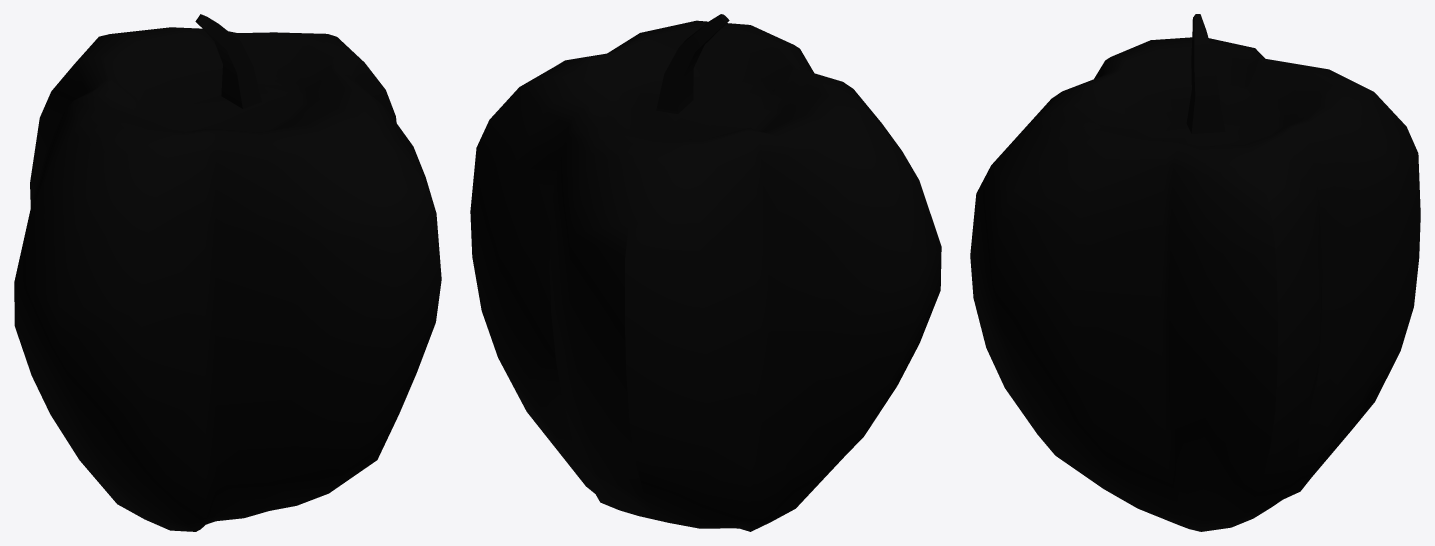
File: Pepper_1_Green.fbx
3 renders of one model, left to right at view 1: azimuth 30°, elevation 25°; view 2: azimuth 150°, elevation 25°; view 3: azimuth 270°, elevation 25°, orthographic. The views are drawn at different scales.
Parts seen in each view (by area): view 1: Pepper_1_Green; view 2: Pepper_1_Green; view 3: Pepper_1_Green.
Part boxes in pixels (bbox=[...]): Pepper_1_Green: bbox=[14, 14, 441, 531]; Pepper_1_Green: bbox=[470, 14, 941, 531]; Pepper_1_Green: bbox=[970, 14, 1420, 531].
Bounding box in the file's own units: 3.08 × 3.63 × 3.13.
